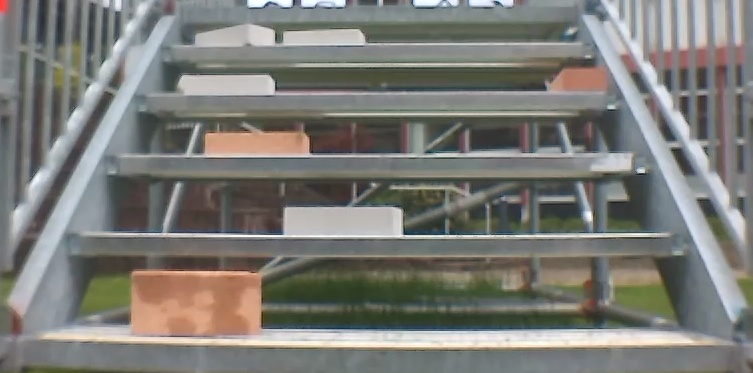brick: (125, 272, 263, 335), (283, 203, 408, 237), (202, 131, 313, 158), (175, 71, 275, 95), (191, 24, 281, 48), (540, 70, 610, 93), (283, 29, 365, 47)
edge: (18, 344, 742, 373), (61, 233, 691, 257), (99, 154, 649, 175), (132, 91, 625, 114), (159, 42, 597, 62), (176, 7, 579, 23)
steps: (5, 7, 743, 372)
